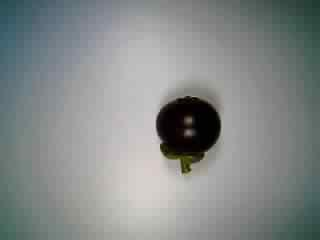mangosteen: (144, 90, 225, 175)
